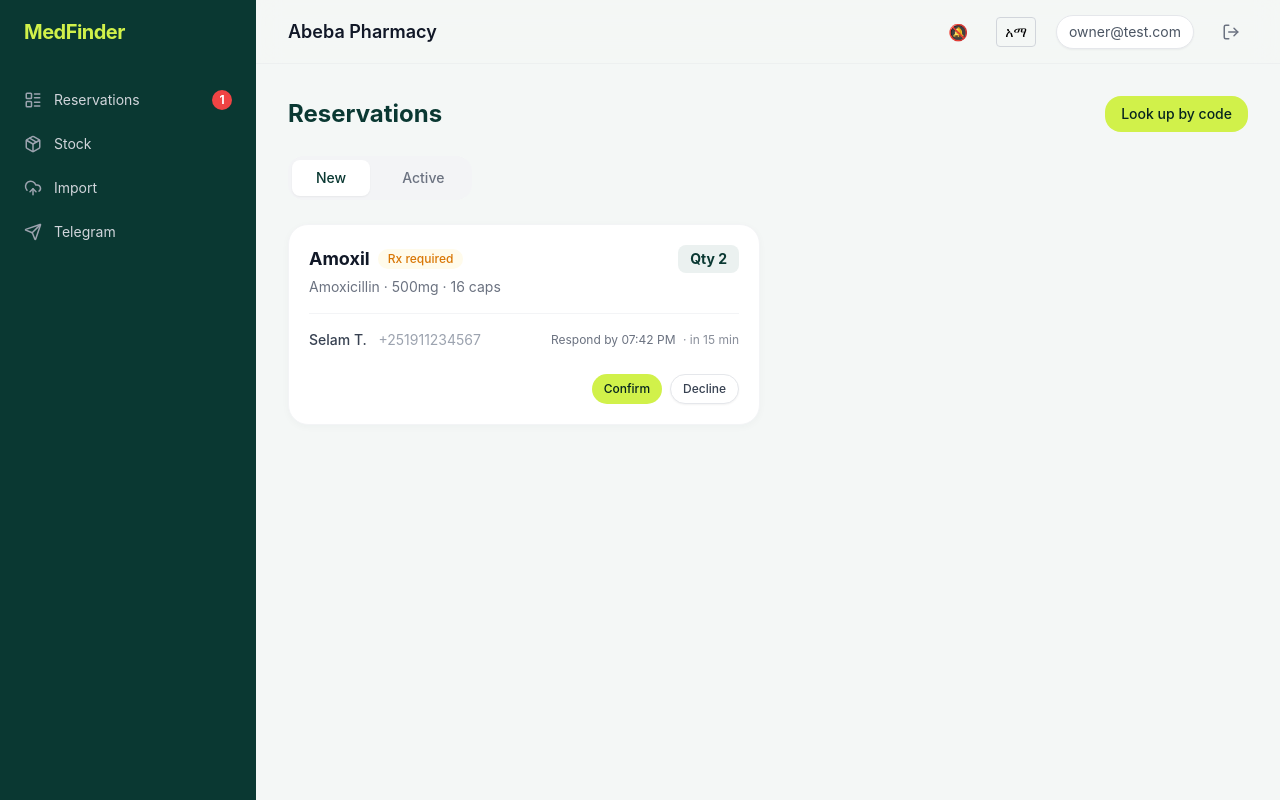
ReservationsPage › cancels decline dialog without sending a request
Expected: the text "Amoxil" is shown, [309,248,370,269]
Click the button "Decline".
click(704, 389)  # box [670,374,739,404]
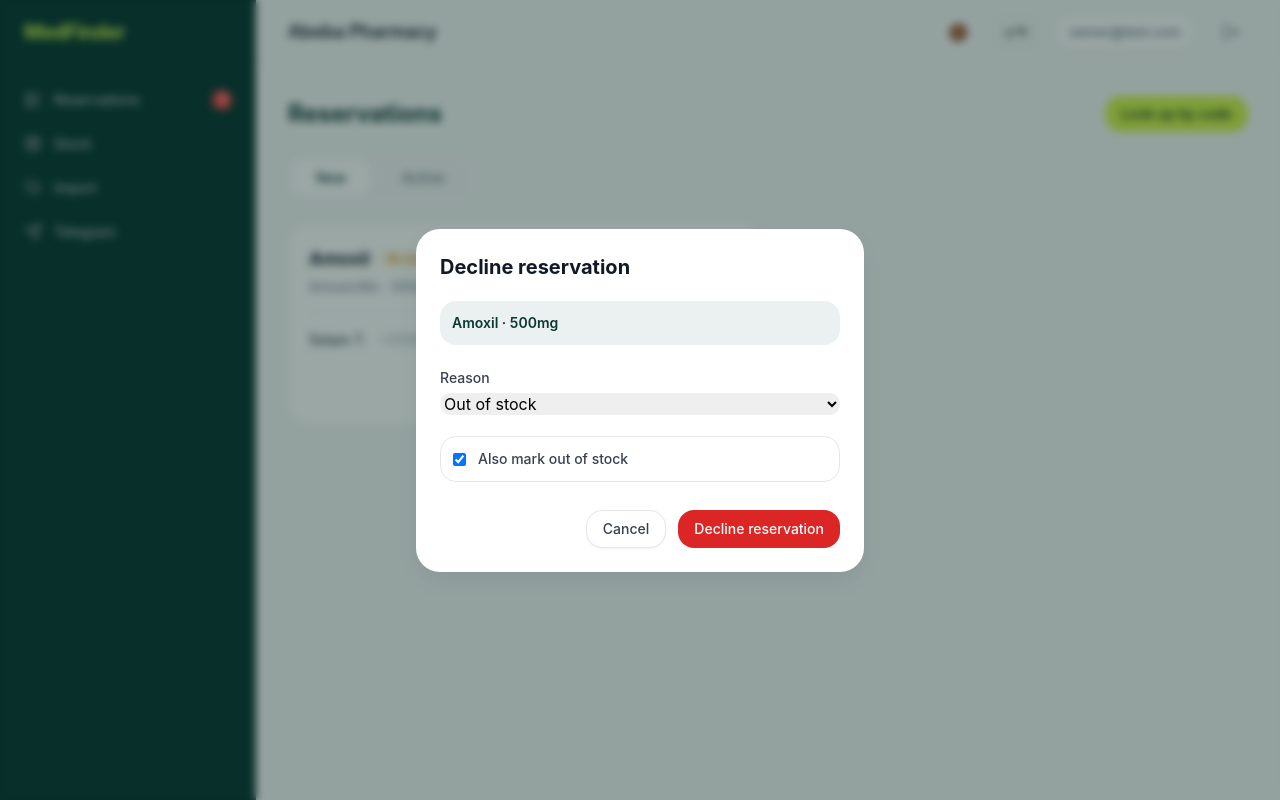
Click the button "Cancel".
click(626, 528)  # box [586,510,666,548]
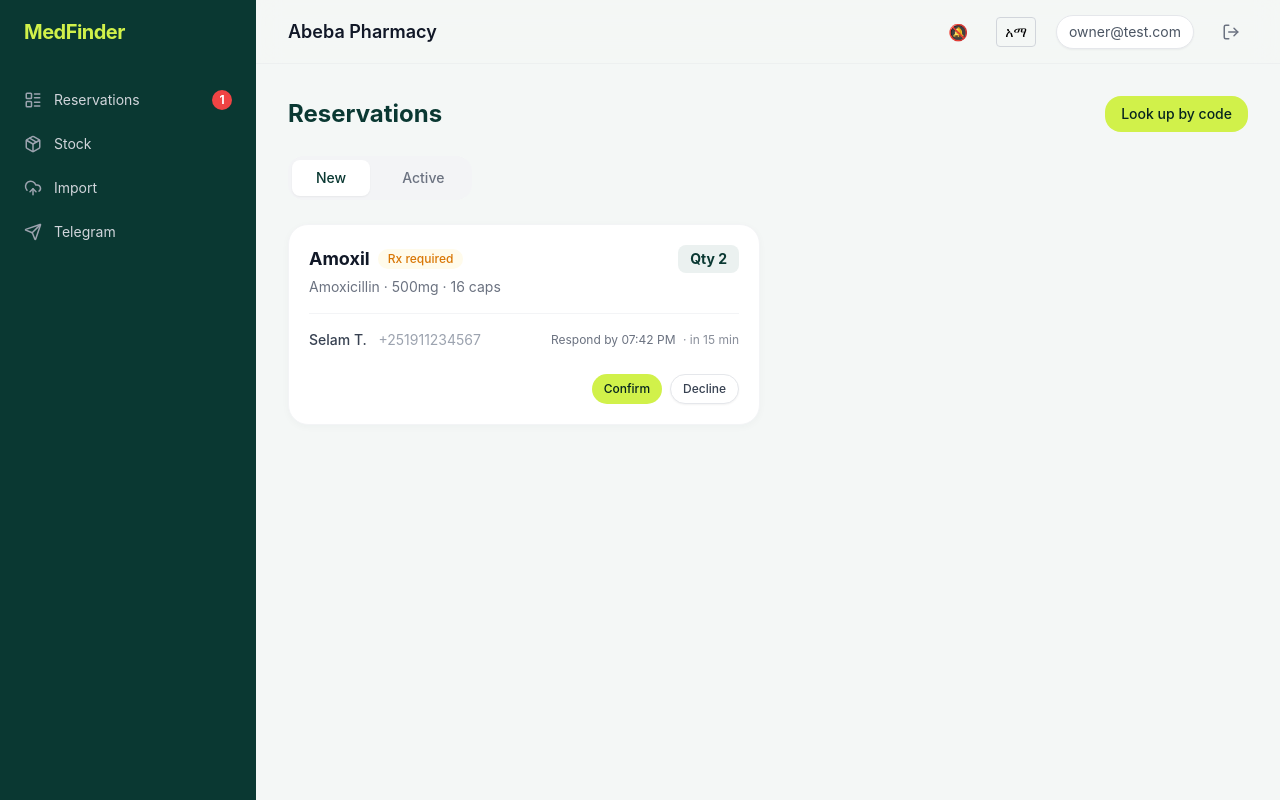
Now the dialog is gone
